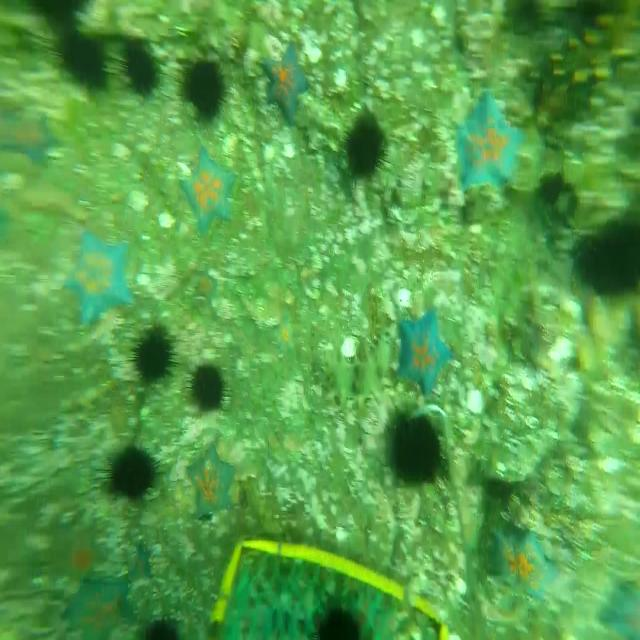echinus: (570, 212, 640, 304), (380, 408, 444, 486), (97, 437, 163, 506), (53, 26, 114, 99), (338, 110, 391, 180), (173, 53, 227, 119), (129, 318, 173, 388), (182, 357, 233, 416), (307, 599, 372, 640), (119, 46, 164, 99), (30, 0, 88, 38), (537, 168, 567, 213), (142, 612, 183, 640)
starfish: (60, 220, 132, 323), (449, 95, 521, 196), (175, 144, 238, 230), (492, 522, 553, 610), (180, 436, 240, 514), (259, 38, 311, 124), (393, 310, 446, 392), (60, 576, 126, 640), (0, 109, 58, 168), (64, 522, 109, 586), (599, 575, 640, 640), (269, 303, 300, 351), (124, 542, 156, 585), (186, 264, 217, 305)
